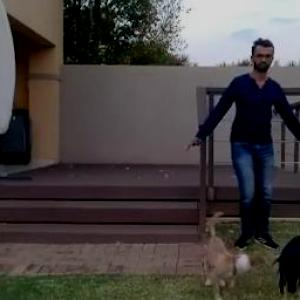land: (186, 41, 300, 257)
